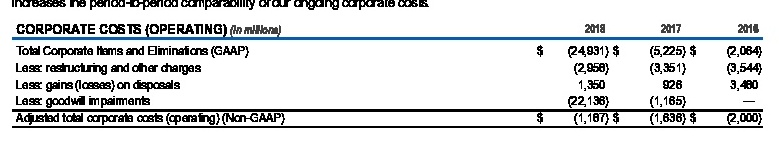table: (0, 0, 779, 146)
